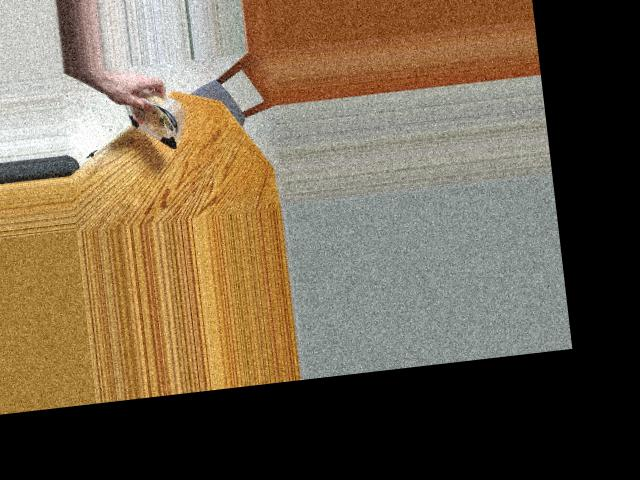cheese: (105, 88, 194, 152)
